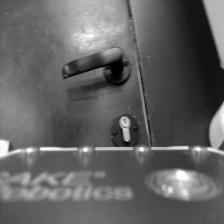Door Handle: (61, 46, 131, 88)
Lock: (111, 110, 140, 146)
